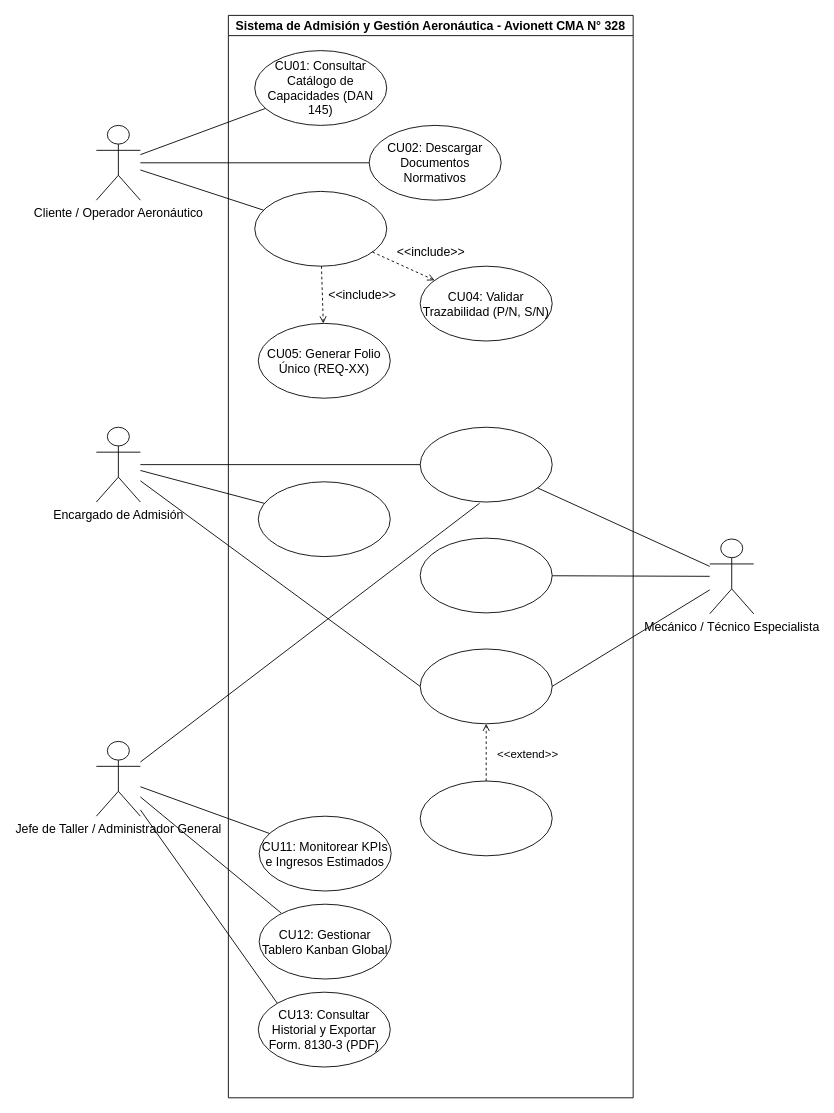
Image size: 834x1113. Some labels were removed from this diagram. Each missing label, with the box of its shape:
CU03: Registrar Solicitud de Admisión Técnica: (254, 191, 387, 266)
CU06: Iniciar Sesión: (419, 426, 552, 502)
CU07: Recepcionar Componente y Validar Trazabilidad: (257, 481, 390, 557)
CU08: Consultar Detalle Técnico y Falla: (419, 537, 552, 613)
CU09: Evaluar y Asignar Orden a Taller: (419, 648, 552, 724)
CU10: Rechazar Solicitud con Motivo: (419, 780, 552, 856)
